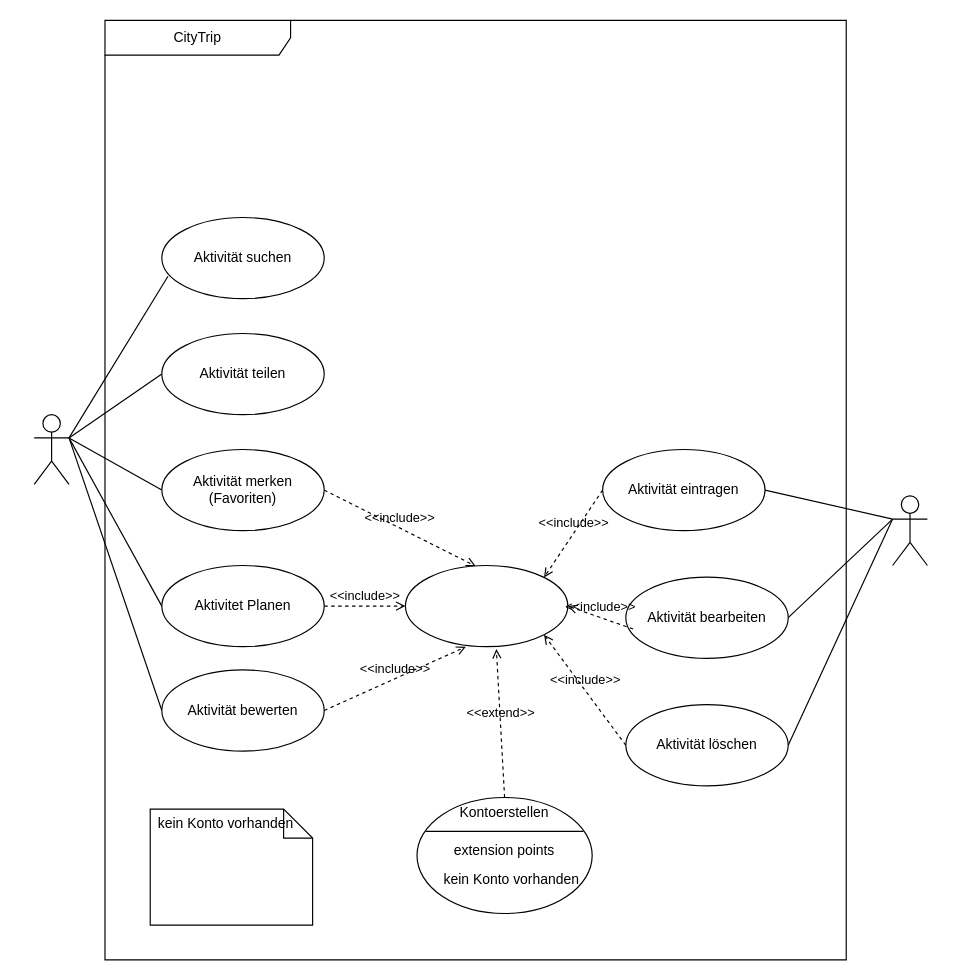
Image size: 956x980. Some labels were removed from this diagram. Here are the shapes that lost their labels. From the top down, the centre of each, then its label:
At (51,449): "Anwender".
At (909,530): "Anbieter".
At (486,605): "Benutzer anmelden".
At (231,866): "Es muss mit Angabe von Email und Passwort ein Konto erstellen werden".
